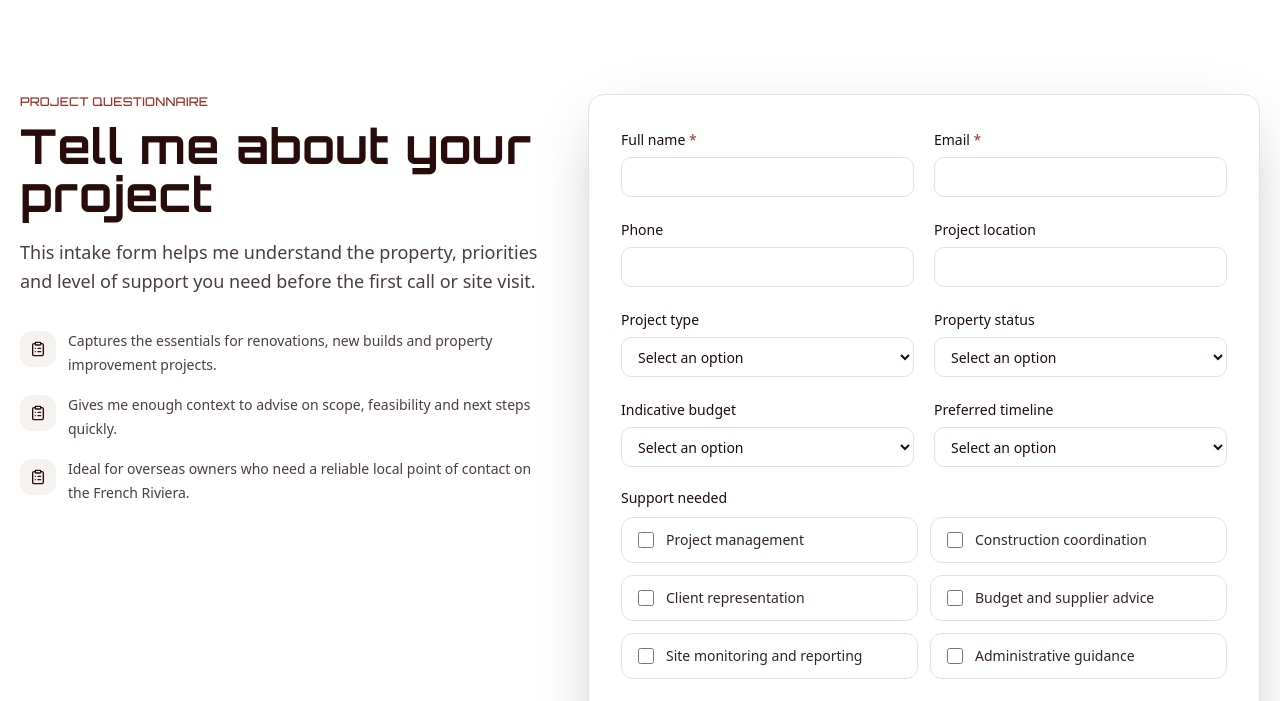
Test case: Questionnaire optional fields › submits with only name and email, sending the skipped answers empty
The image size is (1280, 701).
Type "Jane Doe" into the field labelled "Full name *" at (768, 177), box [621,157,914,197]
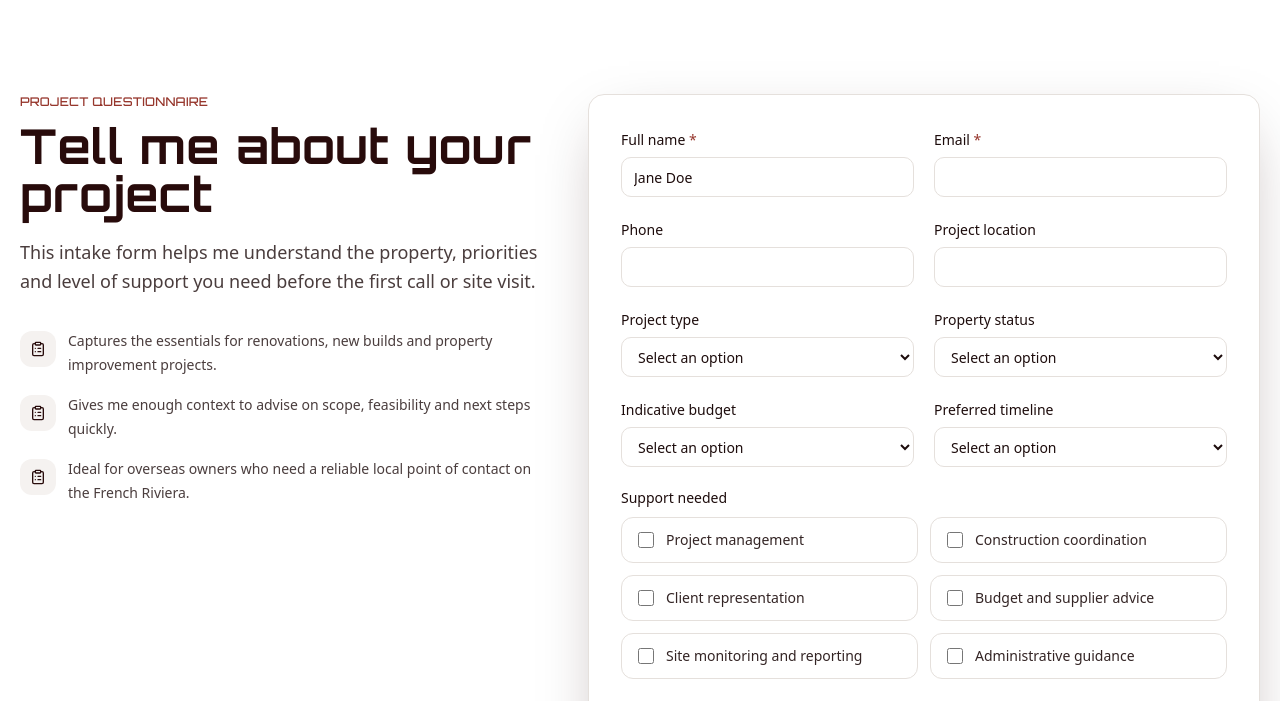
Type "jane@example.com" into the field labelled "Email *" at (1080, 177), box [934,157,1227,197]
(page scrolled)
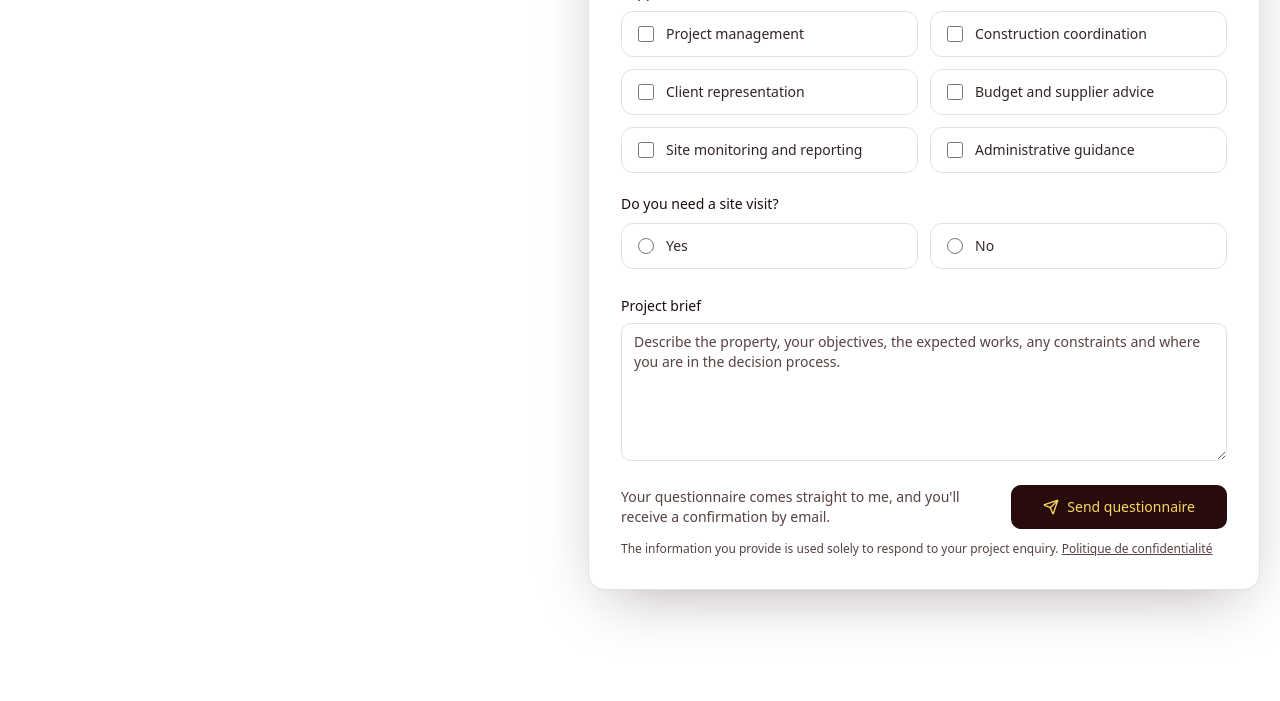
Click the button "Send questionnaire" at (1119, 507), box [1011,485,1227,529]
(page scrolled)
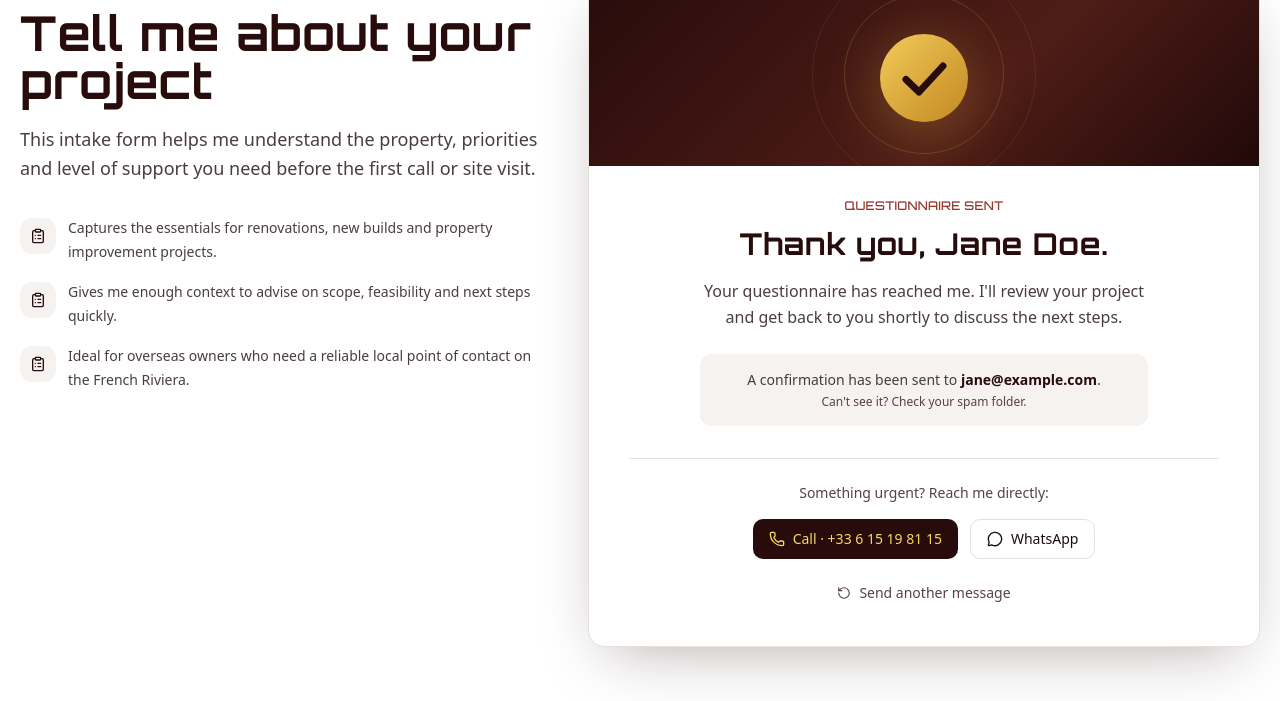
Now the heading "Thank you, Jane Doe." is shown, box [740,225,1108,262]
